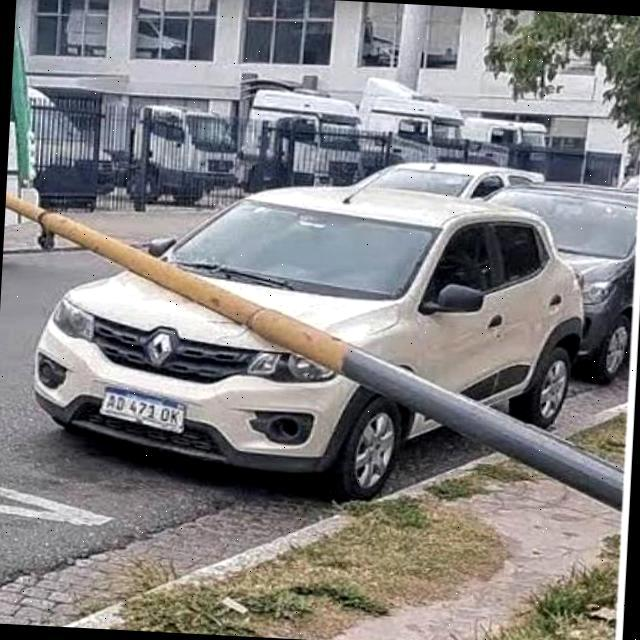Broken Pole: (6, 192, 621, 513)
